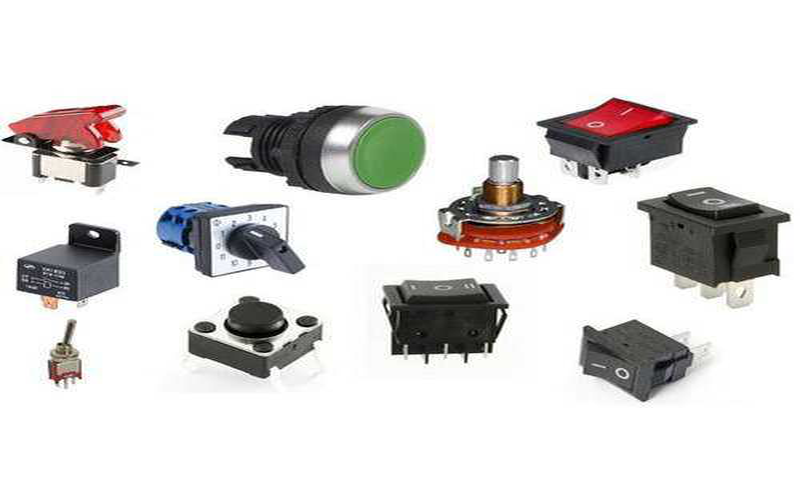Switches: (0, 47, 136, 388), (630, 169, 800, 319), (368, 247, 521, 372), (555, 288, 713, 408), (529, 83, 709, 188), (164, 290, 338, 388), (158, 179, 325, 280)
